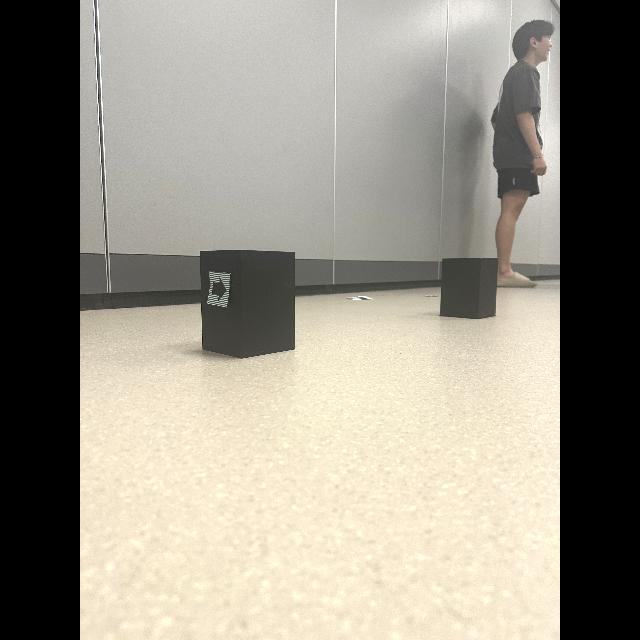RIGHT: (212, 277, 227, 300)
